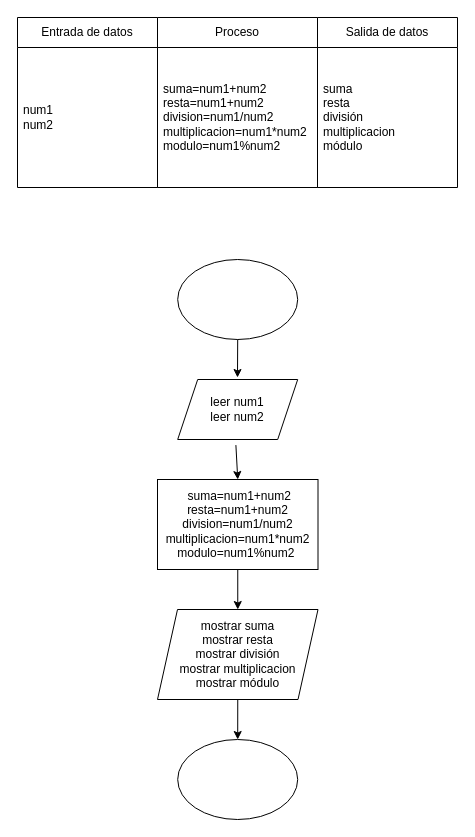
Some shapes in this 475 by 837 pixel diagram are drawn without their labels. The shapes that lost their labels are listed below. From the top down, each one's centre as x and y in pixels, then its label:
point 237,299: Inicio
point 237,779: Fin
